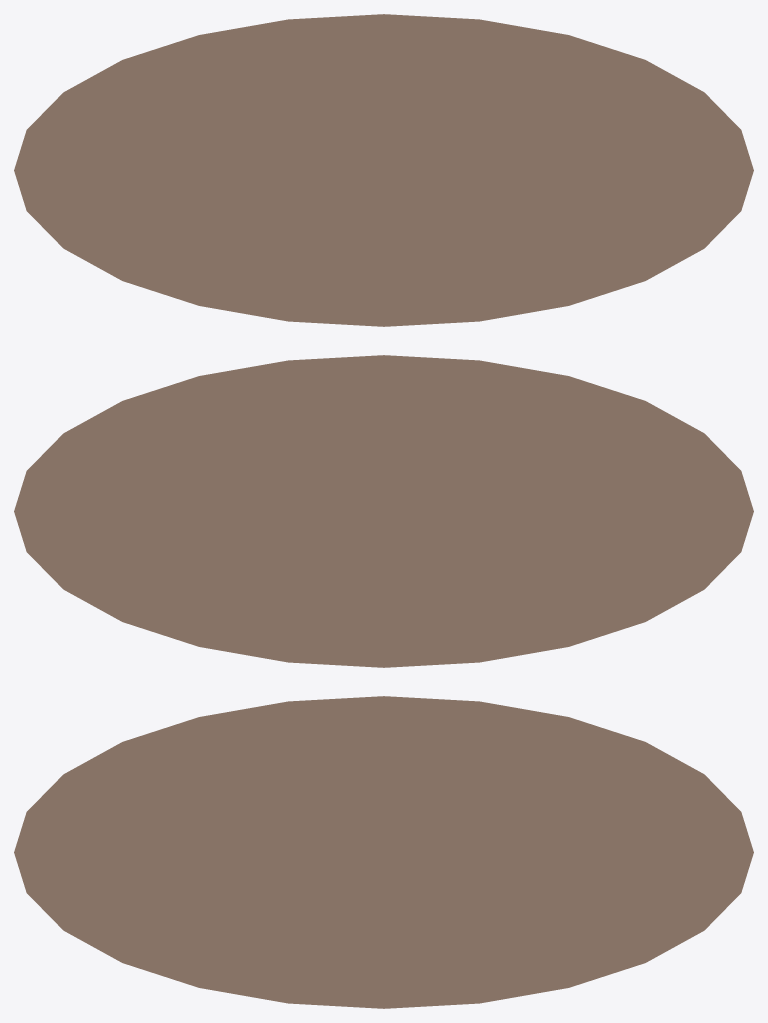
The model's file is floor.fbx.
3 renders of one model, top to bottom at view 1: azimuth 30°, elevation 25°; view 2: azimuth 150°, elevation 25°; view 3: azimuth 270°, elevation 25°, orthographic.
Parts seen in each view (by area): view 1: pDisc1; view 2: pDisc1; view 3: pDisc1.
Part boxes in pixels (box(x1,y1,x2,y2)): pDisc1: box(14, 14, 753, 326); pDisc1: box(14, 355, 753, 667); pDisc1: box(14, 696, 753, 1008).
Bounding box in the file's own units: 9.91 × 0 × 9.91.
